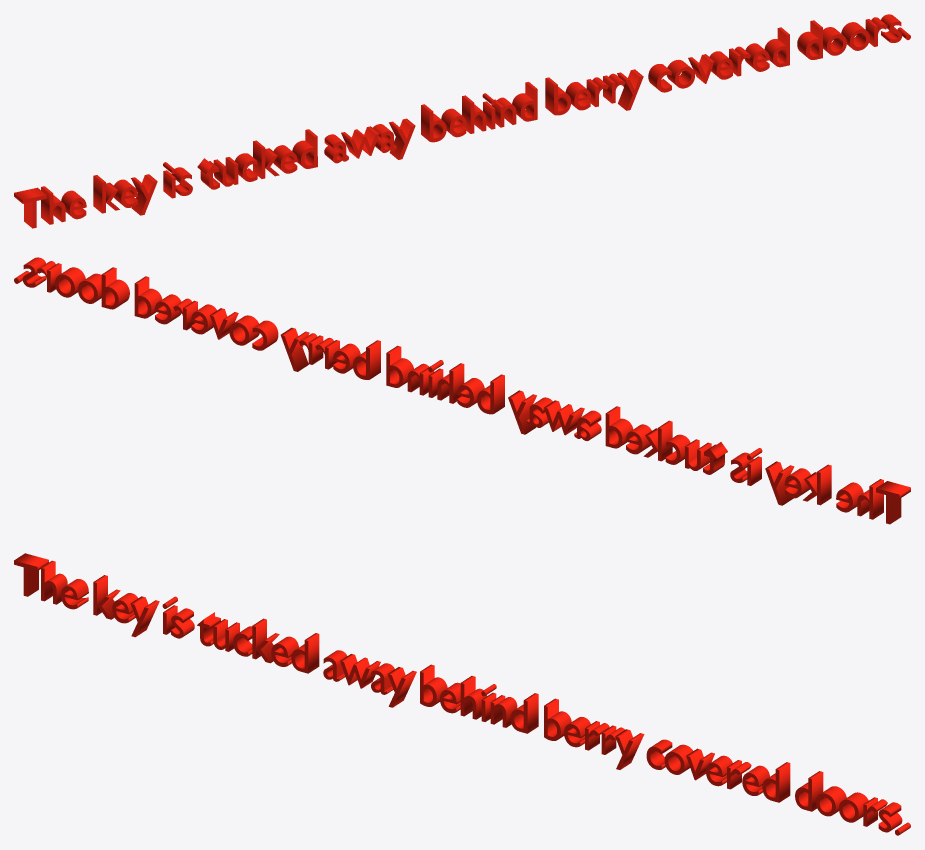
Rendered from strawberry_closet_old.glb.
3 renders of one model, top to bottom at view 1: azimuth 30°, elevation 25°; view 2: azimuth 150°, elevation 25°; view 3: azimuth 330°, elevation 25°, orthographic. The views are drawn at different scales.
Parts seen in each view (by area): view 1: 3_by; view 2: 3_by; view 3: 3_by.
Boxes of the visible parts, <box> form: 3_by: <box>14,14,910,228</box>; 3_by: <box>14,257,910,524</box>; 3_by: <box>14,553,910,835</box>.
Size of the model in its own units: 17.52 by 0.8083 by 1.28.
